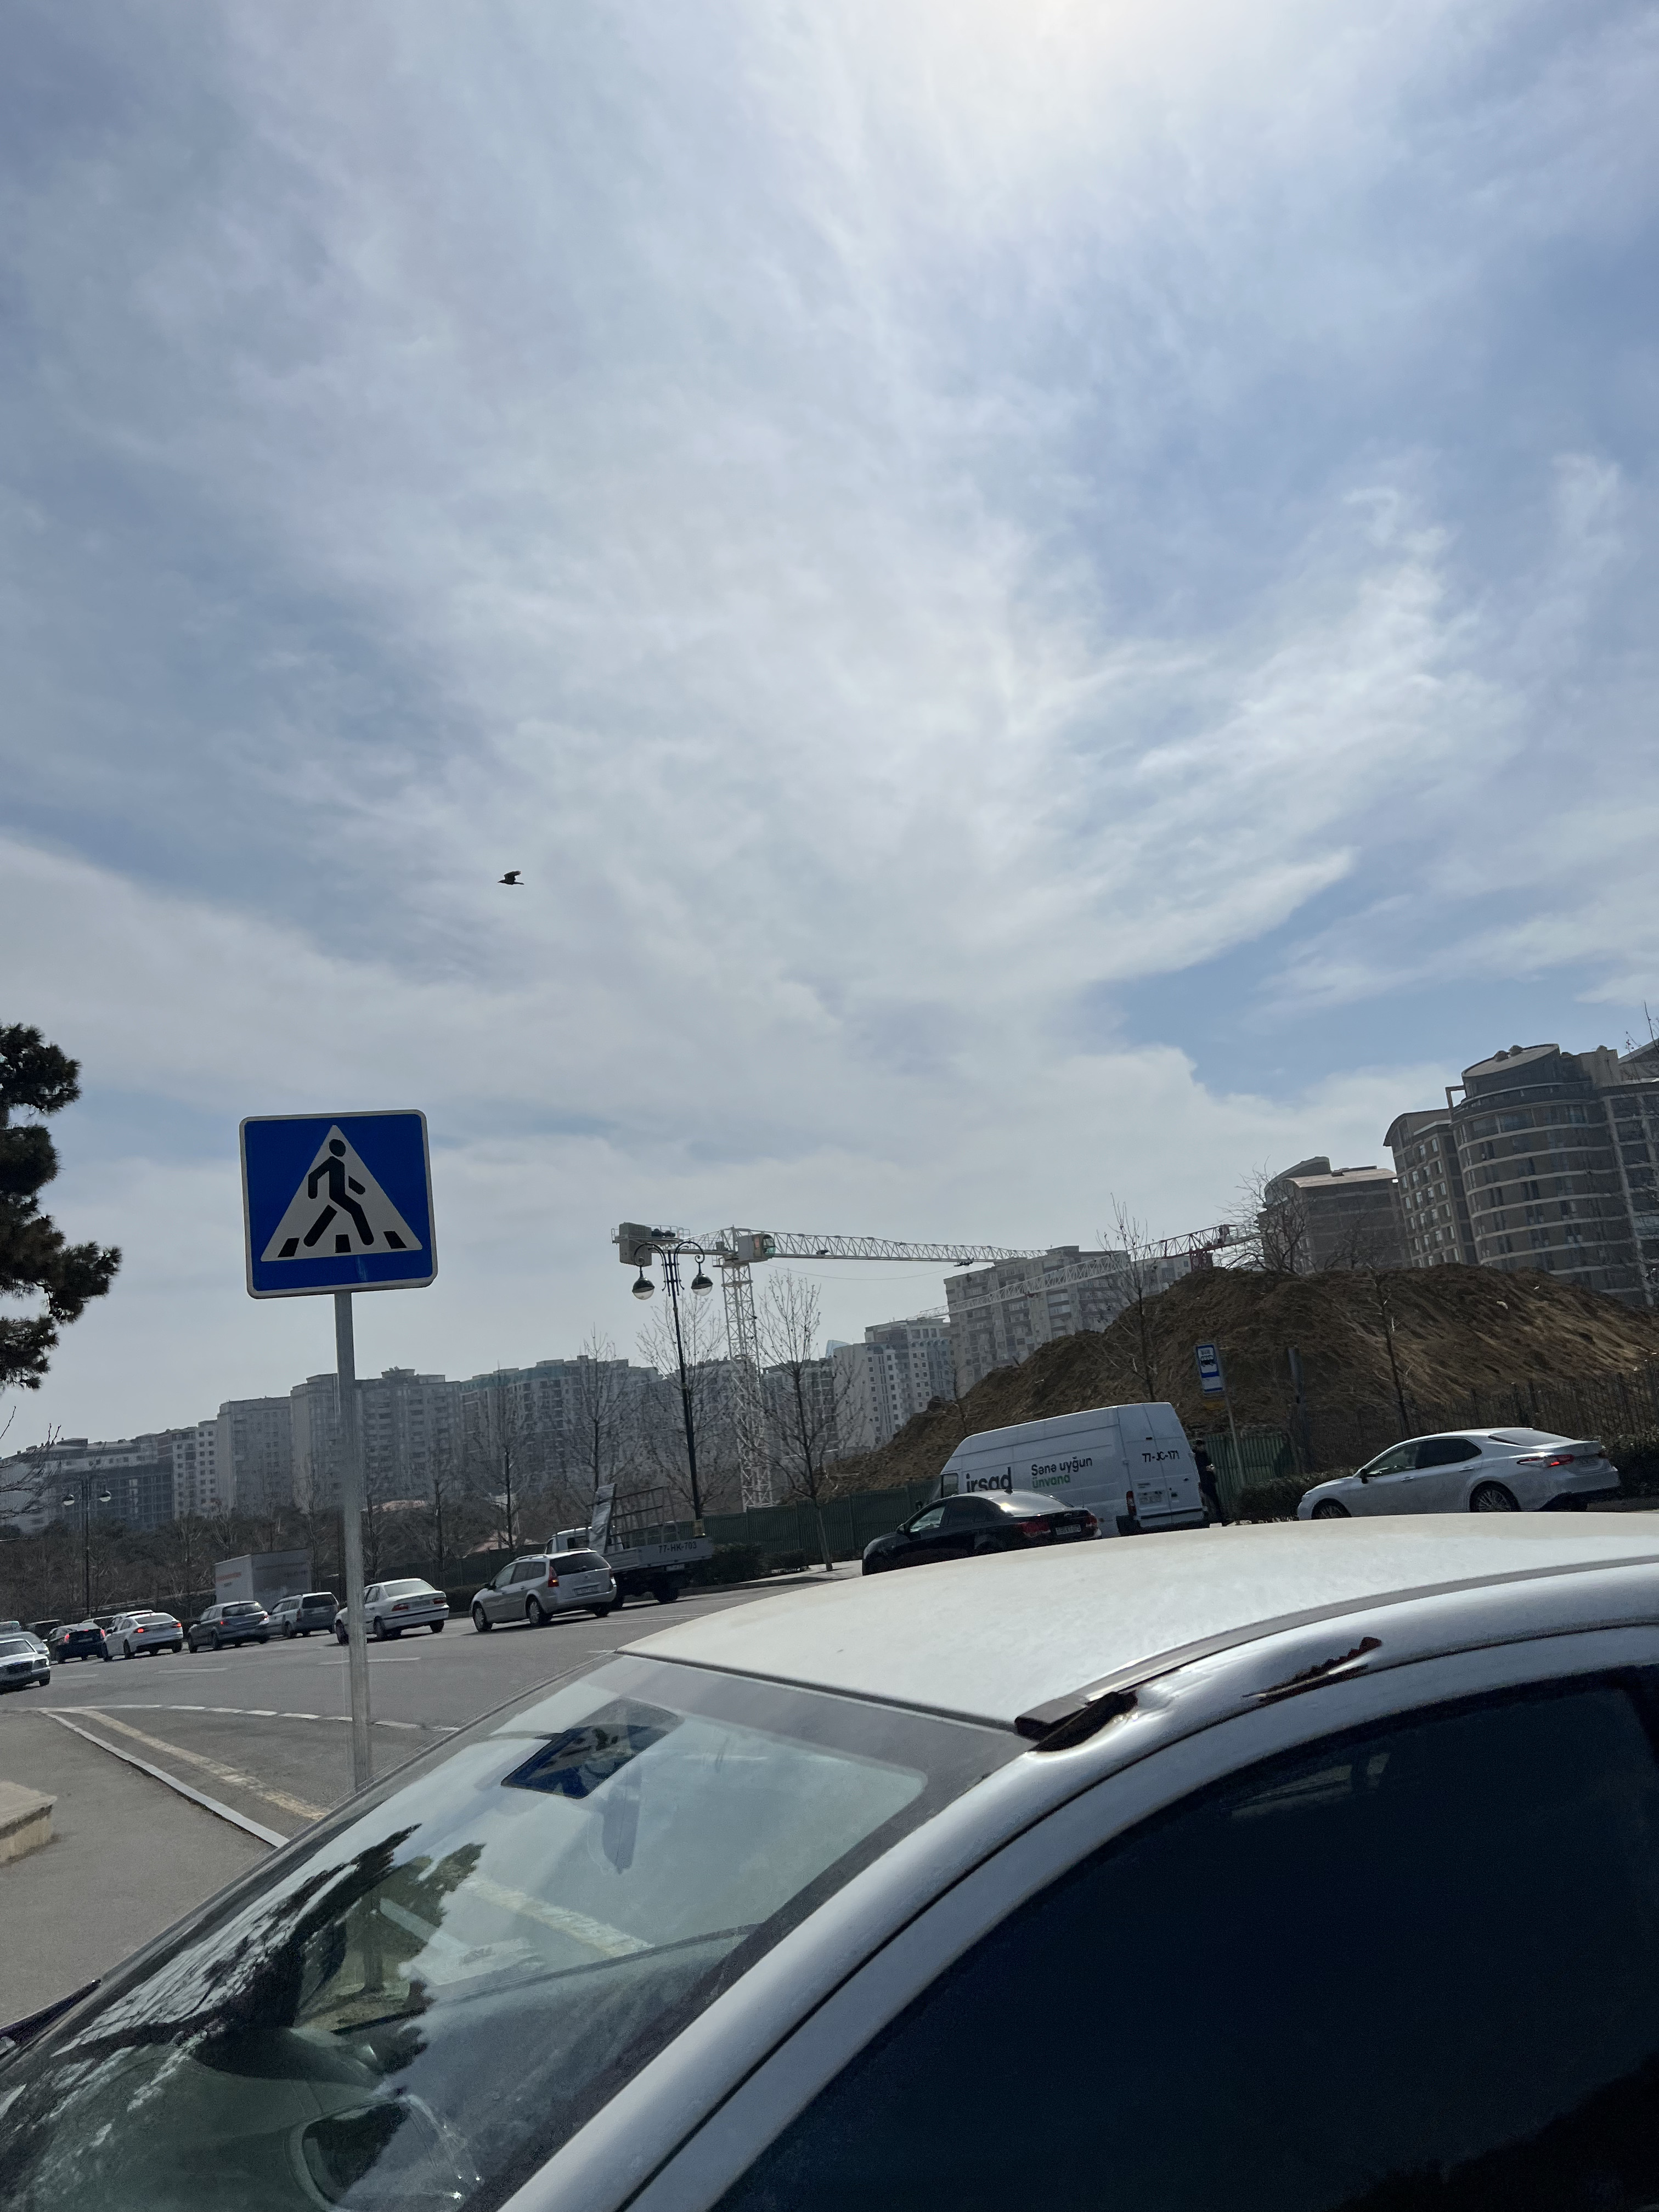Pedestrian Crossing: (240, 1109, 439, 1298)
